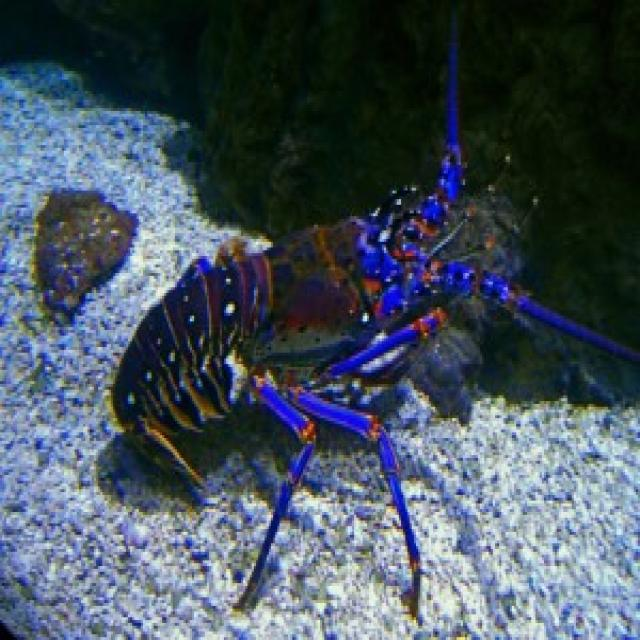lobsters: (72, 109, 640, 630)
